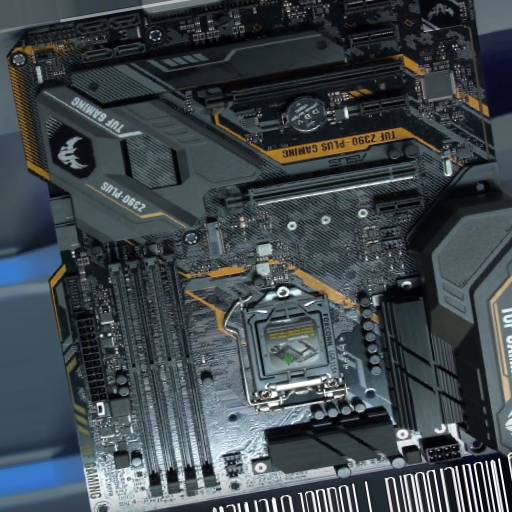CPU: (244, 287, 345, 411)
GPU: (205, 58, 406, 113), (219, 159, 418, 213)
MOTHERBOARD: (23, 1, 512, 498)
RAM: (106, 250, 221, 499)
SSD: (203, 220, 226, 260)
